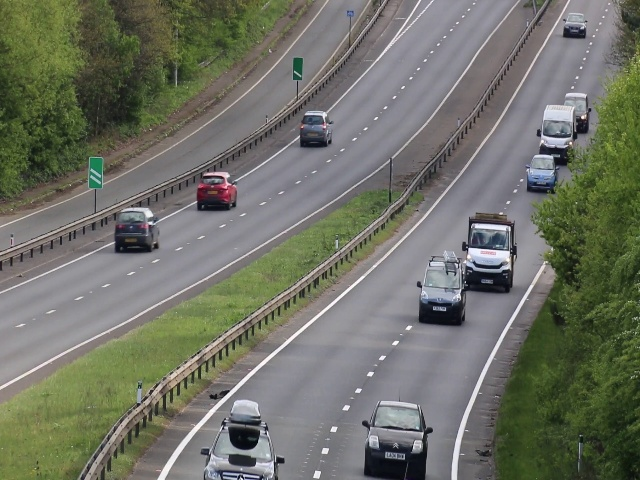car: (362, 400, 426, 475), (202, 423, 276, 480), (467, 217, 514, 292), (419, 256, 466, 323), (115, 207, 159, 254), (537, 106, 574, 157), (194, 170, 239, 208), (559, 89, 590, 134), (301, 108, 332, 146), (527, 156, 555, 193), (563, 10, 586, 38)
